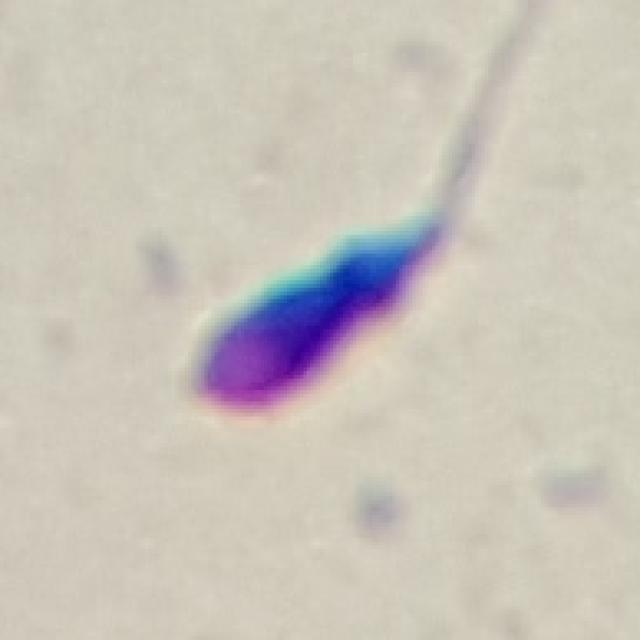abnormal sperm: (175, 82, 525, 434)
